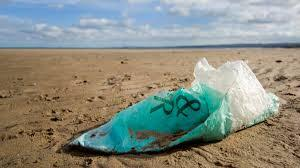Plastic bag: (72, 59, 286, 151)
